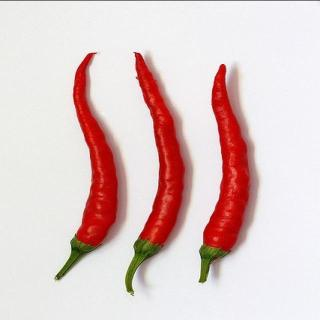Cabai Merah: (125, 52, 187, 297), (54, 52, 120, 282), (198, 64, 252, 284)
